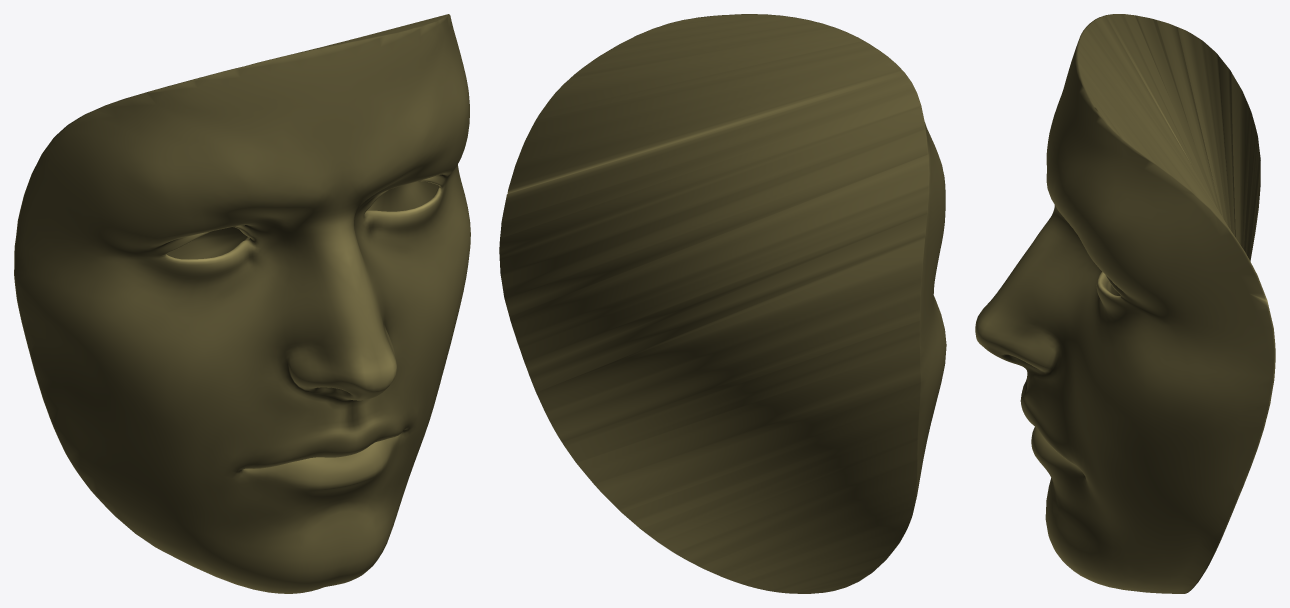
The model's file is Mask2.fbx.
3 views of the same model, side by side, from view 1: azimuth 30°, elevation 25°; view 2: azimuth 150°, elevation 25°; view 3: azimuth 270°, elevation 25° (orthographic). The views are drawn at different scales.
Visible parts, largest first — view 1: Mask; view 2: Mask; view 3: Mask.
Part boxes in pixels (left/top/right/bottom): Mask: left=14, top=14, right=470, bottom=593; Mask: left=499, top=14, right=946, bottom=593; Mask: left=975, top=14, right=1275, bottom=593.
Size of the model in its own units: 27.94 by 34.34 by 17.94.
